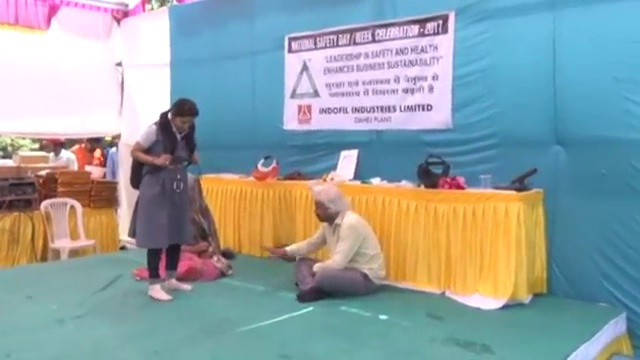helmet_off: (311, 181, 345, 224), (169, 97, 200, 136)
person: (128, 95, 199, 303), (278, 180, 388, 302), (174, 174, 227, 281), (69, 136, 105, 175), (44, 136, 77, 170), (106, 134, 125, 183)
